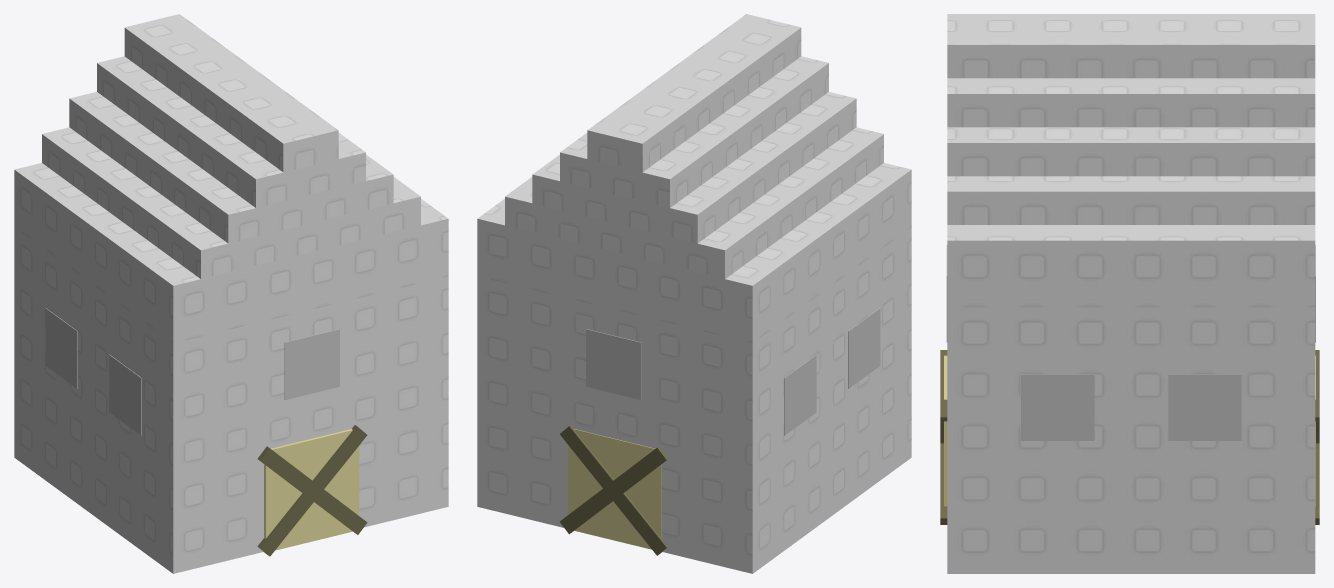
Rendered from 5Floor1.FBX.
3 views of the same model, side by side, from view 1: azimuth 30°, elevation 25°; view 2: azimuth 150°, elevation 25°; view 3: azimuth 270°, elevation 25° (orthographic). The views are drawn at different scales.
Visible parts, largest first — view 1: wuding, qiang, men, chuang; view 2: wuding, qiang, men, chuang; view 3: wuding, qiang, chuang, men.
Part boxes in pixels (left/top/right/bottom): wuding: left=14, top=14, right=448, bottom=343; qiang: left=14, top=227, right=448, bottom=573; men: left=257, top=425, right=367, bottom=556; chuang: left=45, top=308, right=339, bottom=435; wuding: left=477, top=14, right=911, bottom=343; qiang: left=477, top=227, right=911, bottom=573; men: left=559, top=425, right=668, bottom=555; chuang: left=586, top=308, right=880, bottom=435; wuding: left=947, top=14, right=1315, bottom=307; qiang: left=947, top=307, right=1315, bottom=573; chuang: left=946, top=245, right=1315, bottom=440; men: left=940, top=350, right=1319, bottom=524.
Size of the model in its own units: 6.46 by 9.08 by 6.63.
